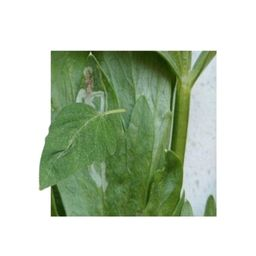liriomyza: (75, 66, 106, 114), (86, 160, 109, 192)
